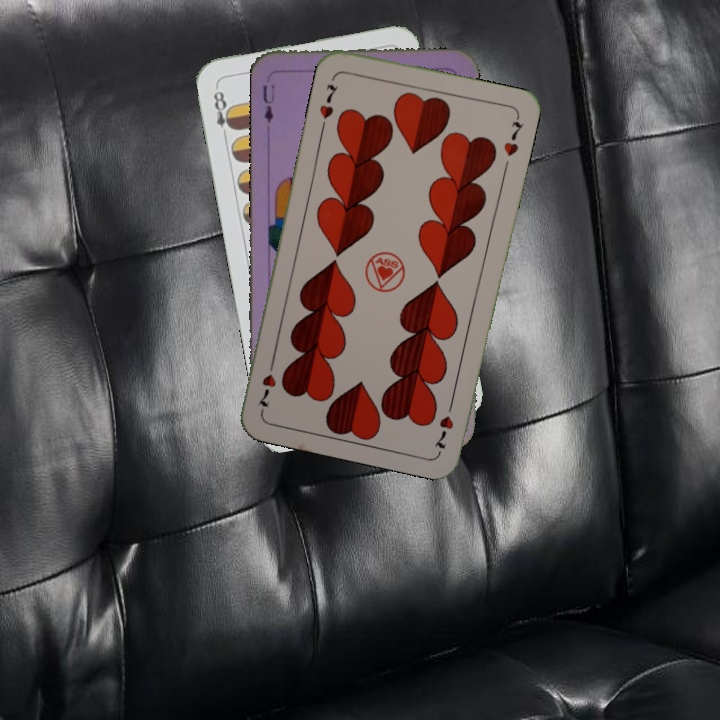E8: (209, 82, 237, 141)
EU: (258, 81, 278, 125)
H7: (430, 396, 456, 454), (315, 80, 340, 121)
